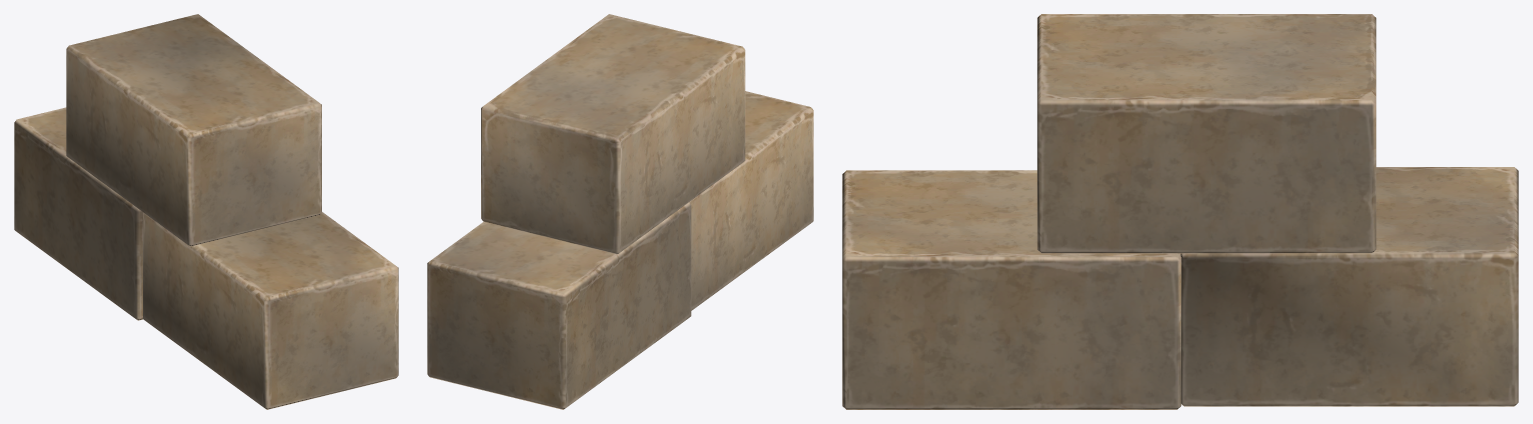
The model's file is SM_construction_block_04.gltf.
The picture shows the model from 3 angles, left to right: view 1: azimuth 30°, elevation 25°; view 2: azimuth 150°, elevation 25°; view 3: azimuth 270°, elevation 25°; orthographic projection. The views are drawn at different scales.
Visible parts, largest first — view 1: SM_construction_block_04; view 2: SM_construction_block_04; view 3: SM_construction_block_04.
Part boxes in pixels (left/top/right/bottom): SM_construction_block_04: left=14, top=14, right=398, bottom=409; SM_construction_block_04: left=427, top=14, right=813, bottom=409; SM_construction_block_04: left=842, top=14, right=1518, bottom=409.
Bounding box in the file's own units: 1.56 × 2.39 × 4.79.
1 material, 1 textured.
